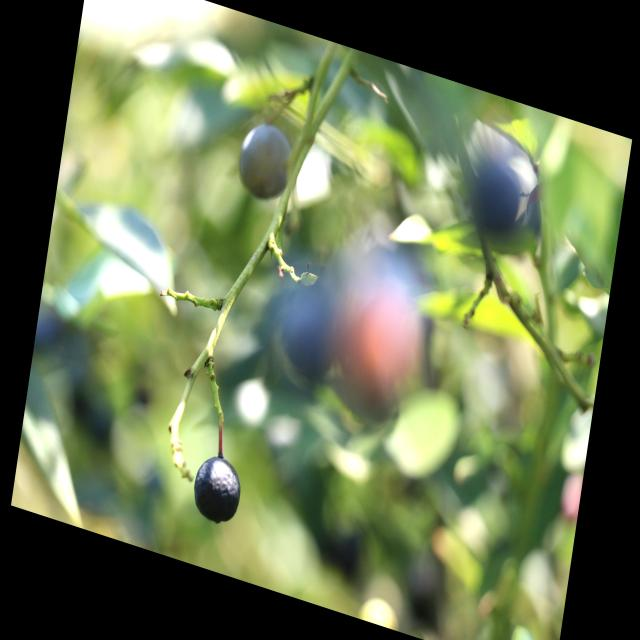blueberry: (468, 144, 545, 249), (236, 119, 296, 208), (190, 449, 247, 531)
